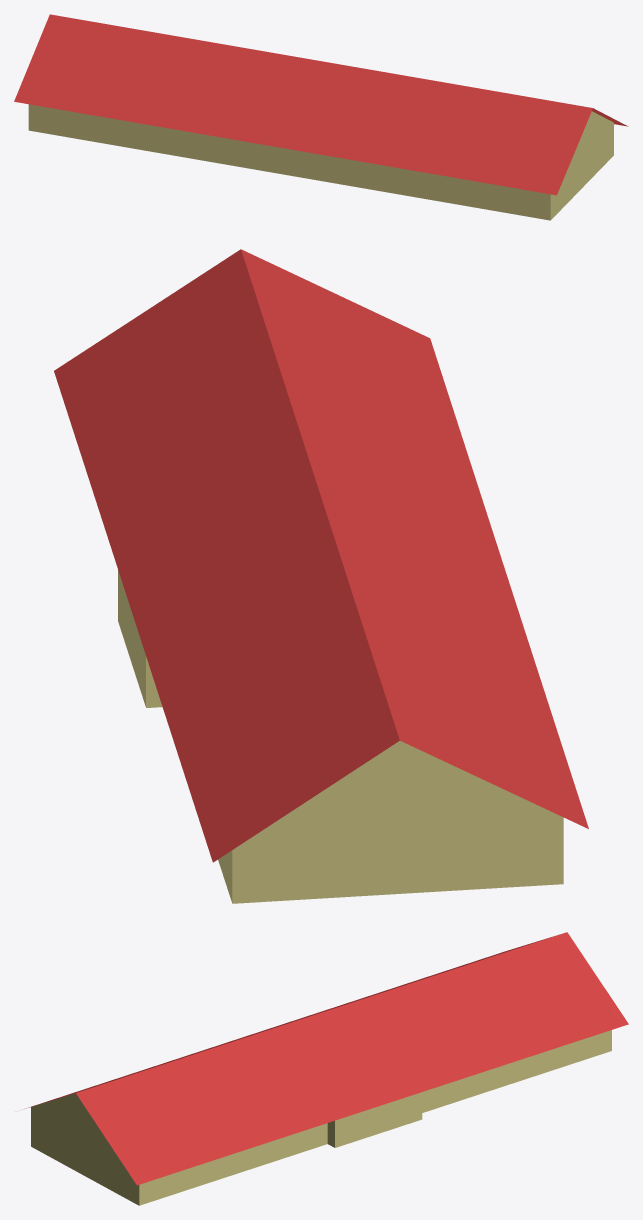
The picture shows the model from 3 angles, top to bottom: view 1: azimuth 30°, elevation 25°; view 2: azimuth 150°, elevation 25°; view 3: azimuth 270°, elevation 25°; orthographic projection. The views are drawn at different scales.
Size of the model in its own units: 22.42 by 25.53 by 3.96.
